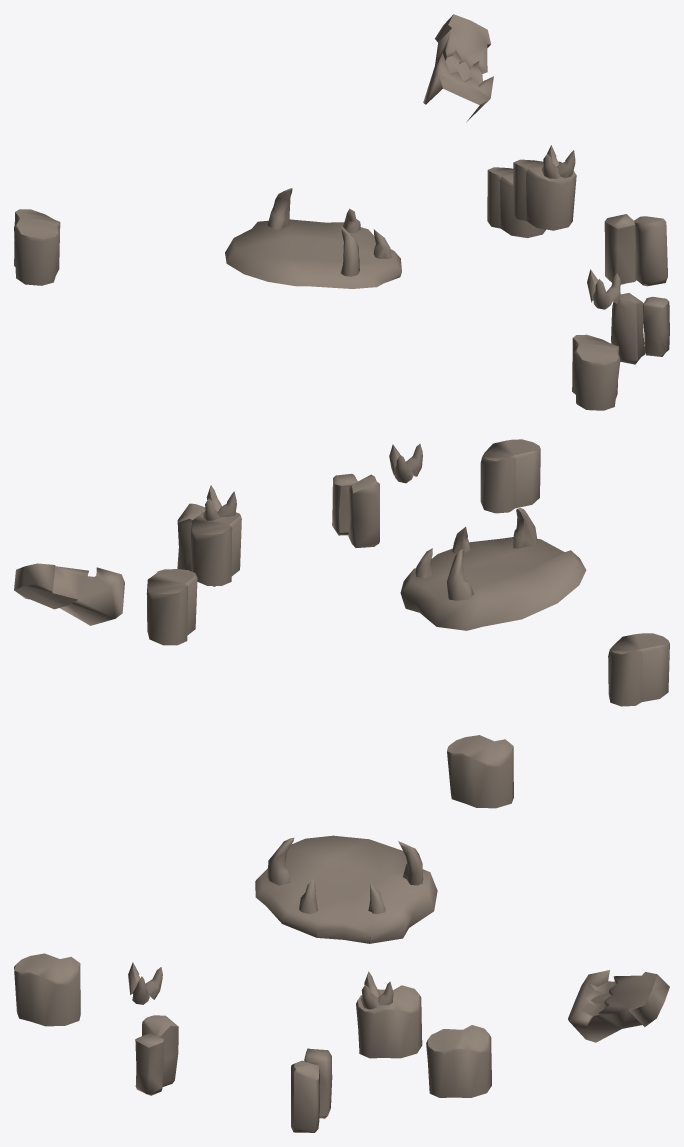
The picture shows the model from 3 angles, top to bottom: view 1: azimuth 30°, elevation 25°; view 2: azimuth 150°, elevation 25°; view 3: azimuth 270°, elevation 25°; orthographic projection.
Parts seen in each view (by area): view 1: 007-0-7; view 2: 007-0-7; view 3: 007-0-7.
Part boxes in pixels (bbox=[...]): 007-0-7: bbox=[14, 14, 669, 410]; 007-0-7: bbox=[14, 439, 669, 706]; 007-0-7: bbox=[14, 735, 669, 1132].
Bounding box in the file's own units: 51.02 × 12.57 × 51.5.
